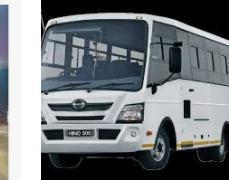bus: (42, 12, 228, 173)
